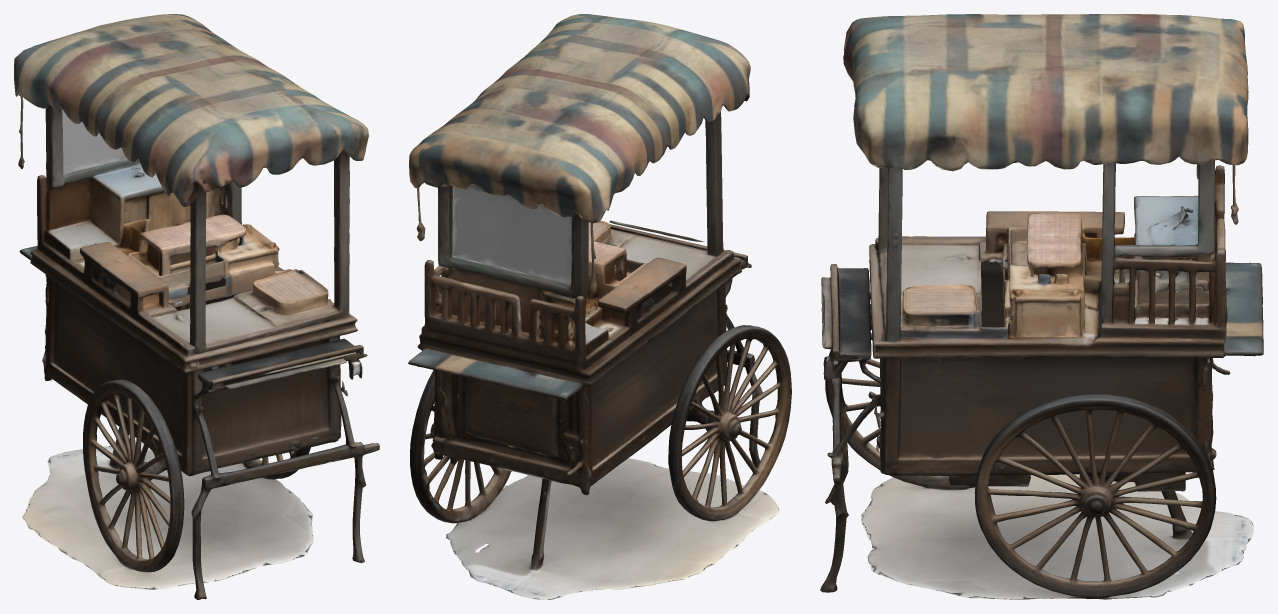
3 views of the same model, side by side, from view 1: azimuth 30°, elevation 25°; view 2: azimuth 150°, elevation 25°; view 3: azimuth 270°, elevation 25° (orthographic). The views are drawn at different scales.
Parts seen in each view (by area): view 1: geometry_0; view 2: geometry_0; view 3: geometry_0.
Boxes of the visible parts, x1,y1,x2,y2 form: geometry_0: [14, 14, 379, 599]; geometry_0: [408, 14, 791, 599]; geometry_0: [820, 14, 1263, 599].
Bounding box in the file's own units: 0.5878 × 1 × 0.787.
Materials: 1 (1 with a texture image).
